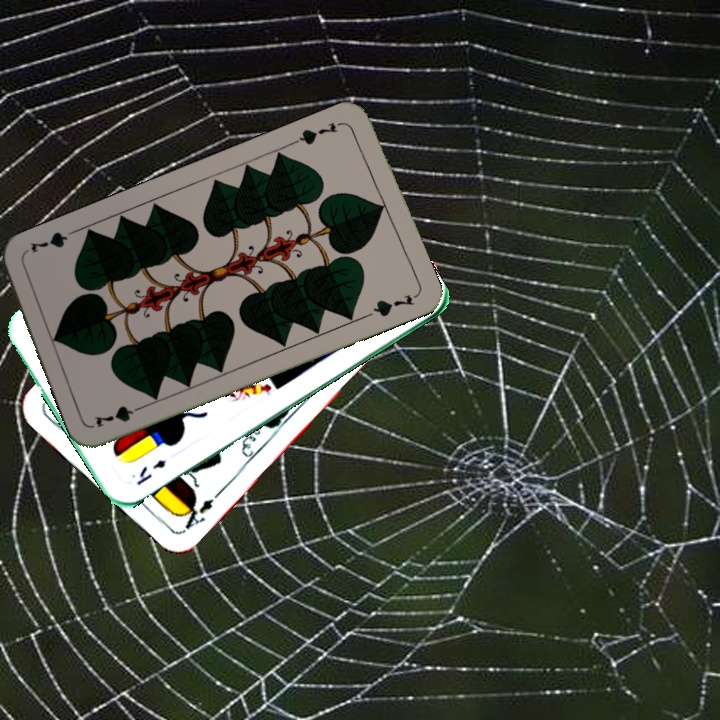EA: (176, 488, 223, 536)
EK: (132, 455, 169, 488)
G7: (90, 400, 149, 431), (290, 117, 347, 148)
